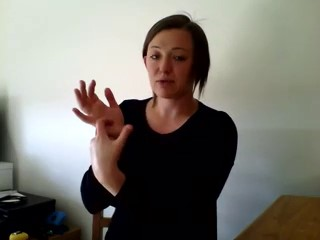R: (68, 75, 135, 176)
